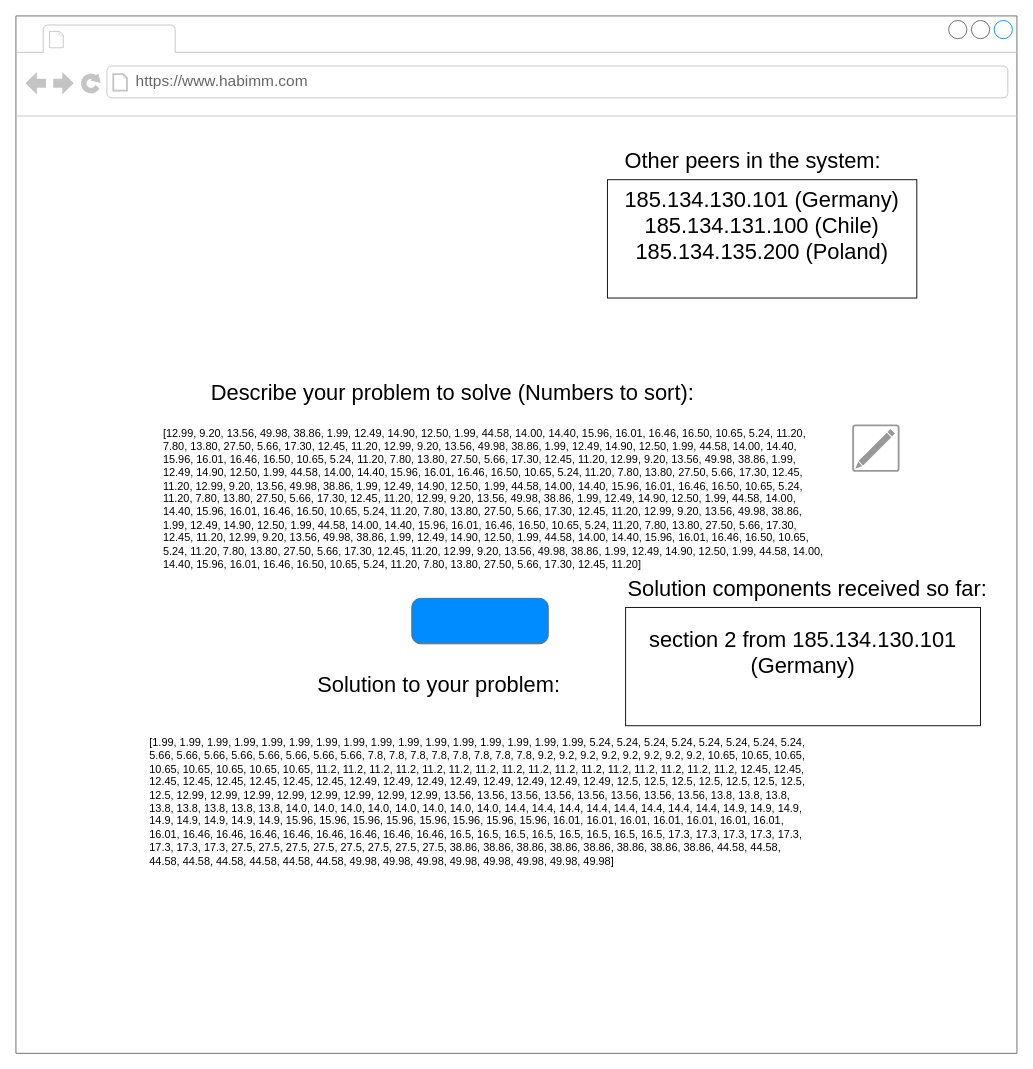
This 1033x1069 diagram has some shape labels left out. The centre of each missing label's shape, as x and y in pixels:
"Distributed Solver" belongs at (x=143, y=38).
"Send problem" belongs at (x=479, y=620).
